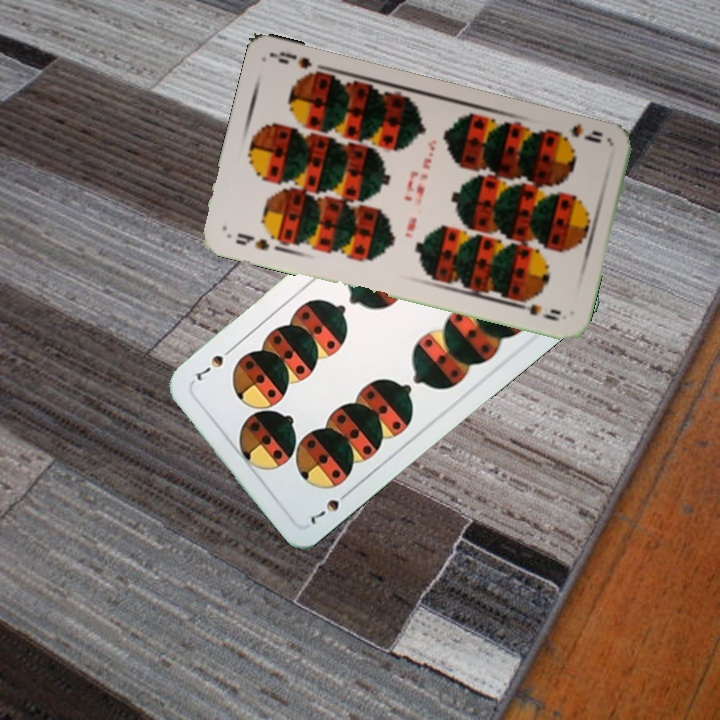S7: (306, 486, 354, 527)
S9: (551, 120, 606, 146), (232, 229, 272, 253)
